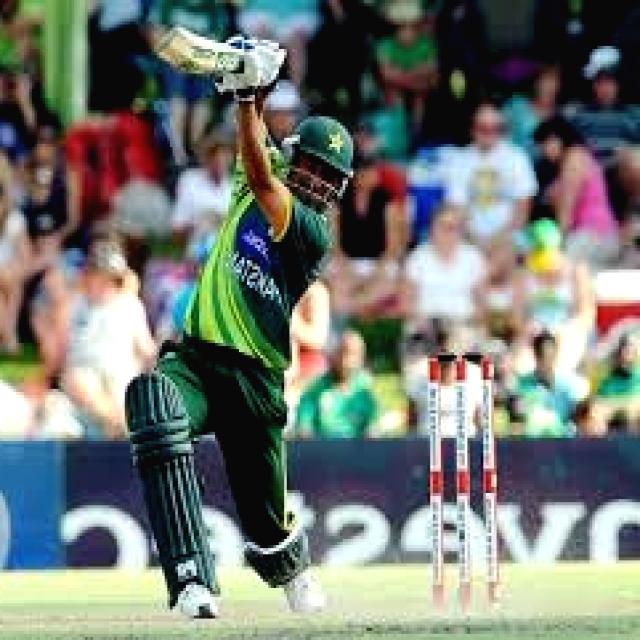toe: (150, 28, 196, 66)
